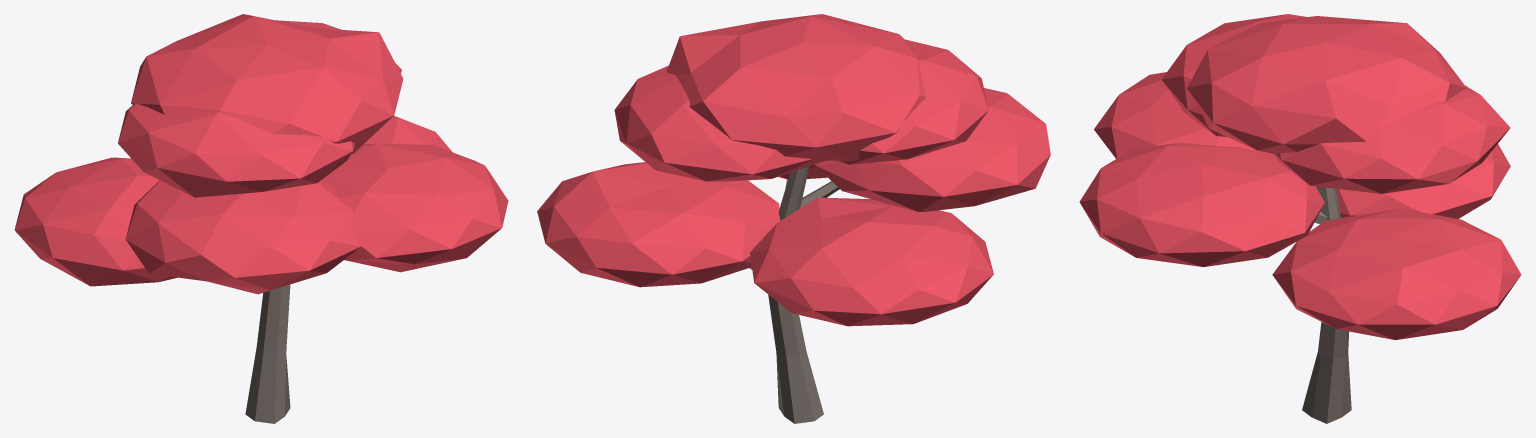
Rendered from tree_red_maple.glb.
The picture shows the model from 3 angles, left to right: view 1: azimuth 30°, elevation 25°; view 2: azimuth 150°, elevation 25°; view 3: azimuth 270°, elevation 25°; orthographic projection.
Parts seen in each view (by area): view 1: tree_red_maple; view 2: tree_red_maple; view 3: tree_red_maple.
Boxes of the visible parts, x1,y1,x2,y2 form: tree_red_maple: (14,14,508,423); tree_red_maple: (537,14,1050,423); tree_red_maple: (1079,14,1521,423).
Size of the model in its own units: 6.15 by 5.25 by 5.68.
